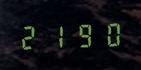nine: (70, 20, 95, 49)
one: (44, 20, 69, 50)
two: (18, 21, 43, 50)
zero: (96, 19, 121, 48)
